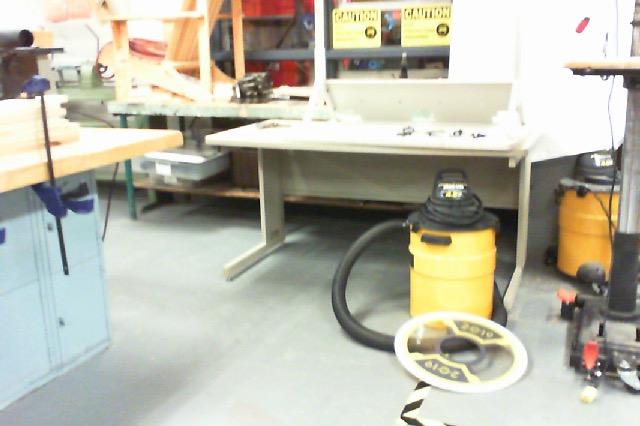Hatch: (393, 312, 527, 393)
